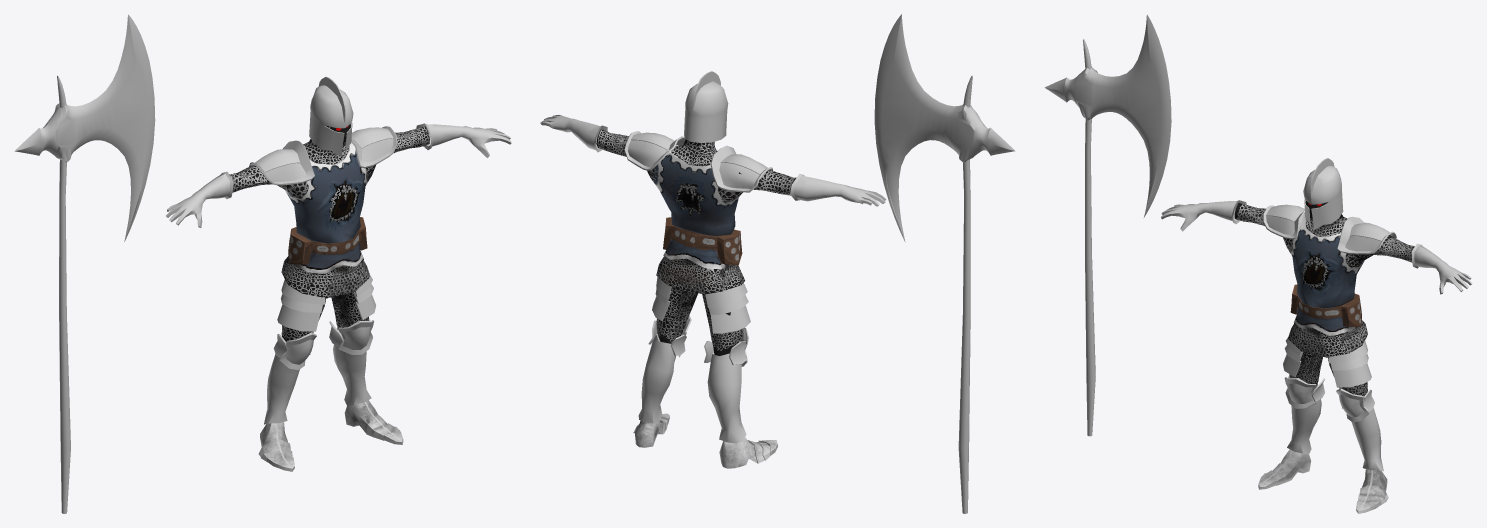
File: Guard_Knight_T_Pose.fbx
3 renders of one model, left to right at view 1: azimuth 30°, elevation 25°; view 2: azimuth 150°, elevation 25°; view 3: azimuth 330°, elevation 25°, orthographic. The views are drawn at different scales.
Visible parts, largest first — view 1: Guard, HalberdBlade, HalberdHandle; view 2: Guard, HalberdBlade, HalberdHandle; view 3: Guard, HalberdBlade, HalberdHandle.
Part boxes in pixels (x1,y1,x2,y2): Guard: [166, 76, 511, 471]; HalberdBlade: [14, 14, 155, 241]; HalberdHandle: [57, 75, 70, 513]; Guard: [540, 71, 886, 468]; HalberdBlade: [874, 14, 1014, 241]; HalberdHandle: [958, 75, 972, 513]; Guard: [1161, 158, 1472, 513]; HalberdBlade: [1044, 14, 1171, 217]; HalberdHandle: [1083, 38, 1095, 436].
Size of the model in its own units: 331 by 316 by 46.44.
